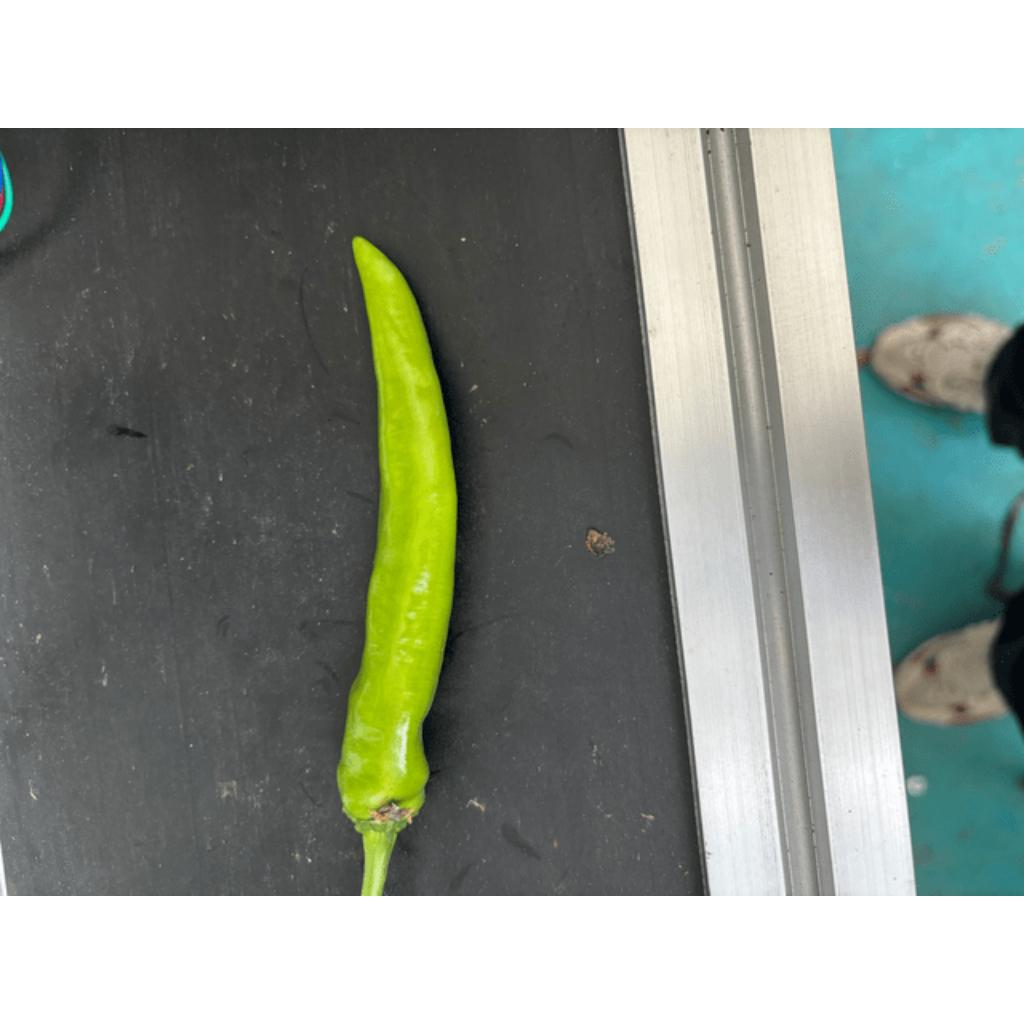chili: (333, 229, 459, 837)
